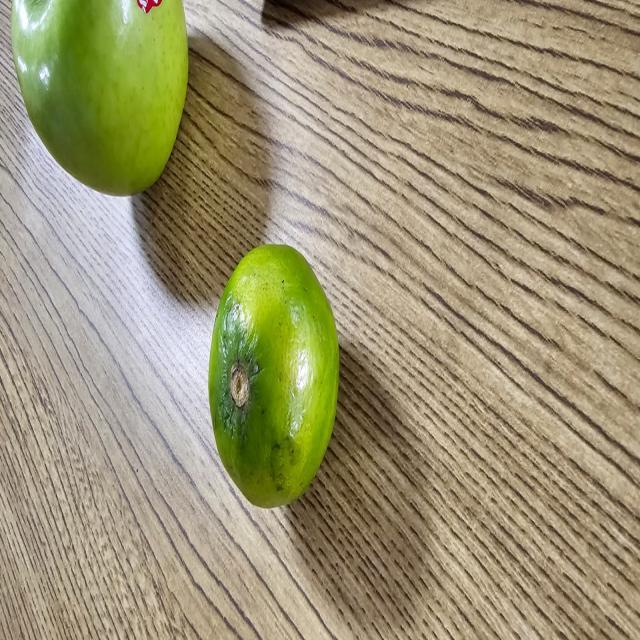Apel Granny Smith: (6, 0, 193, 208)
Lemon: (206, 241, 342, 516)
